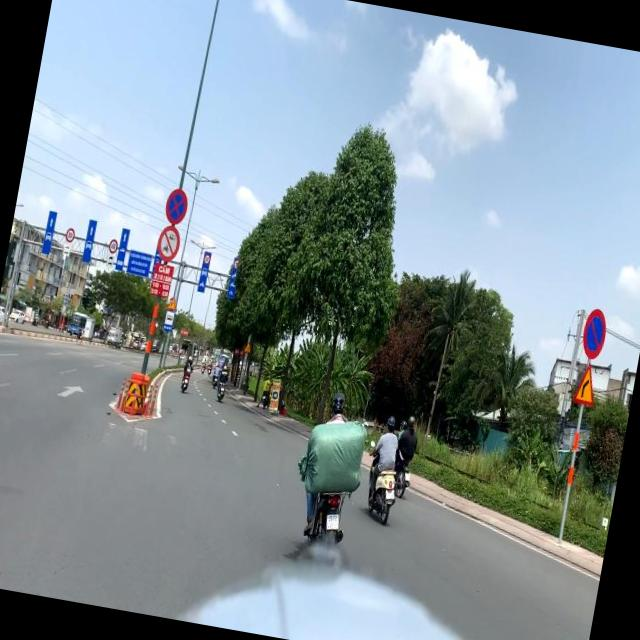P-104: (153, 222, 183, 262)
P-130: (162, 184, 190, 225)
P-131a: (578, 306, 612, 359)
W-201b: (572, 359, 600, 408)
